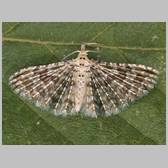Alucitidae: (8, 44, 159, 123)
moth: (7, 44, 158, 123)
